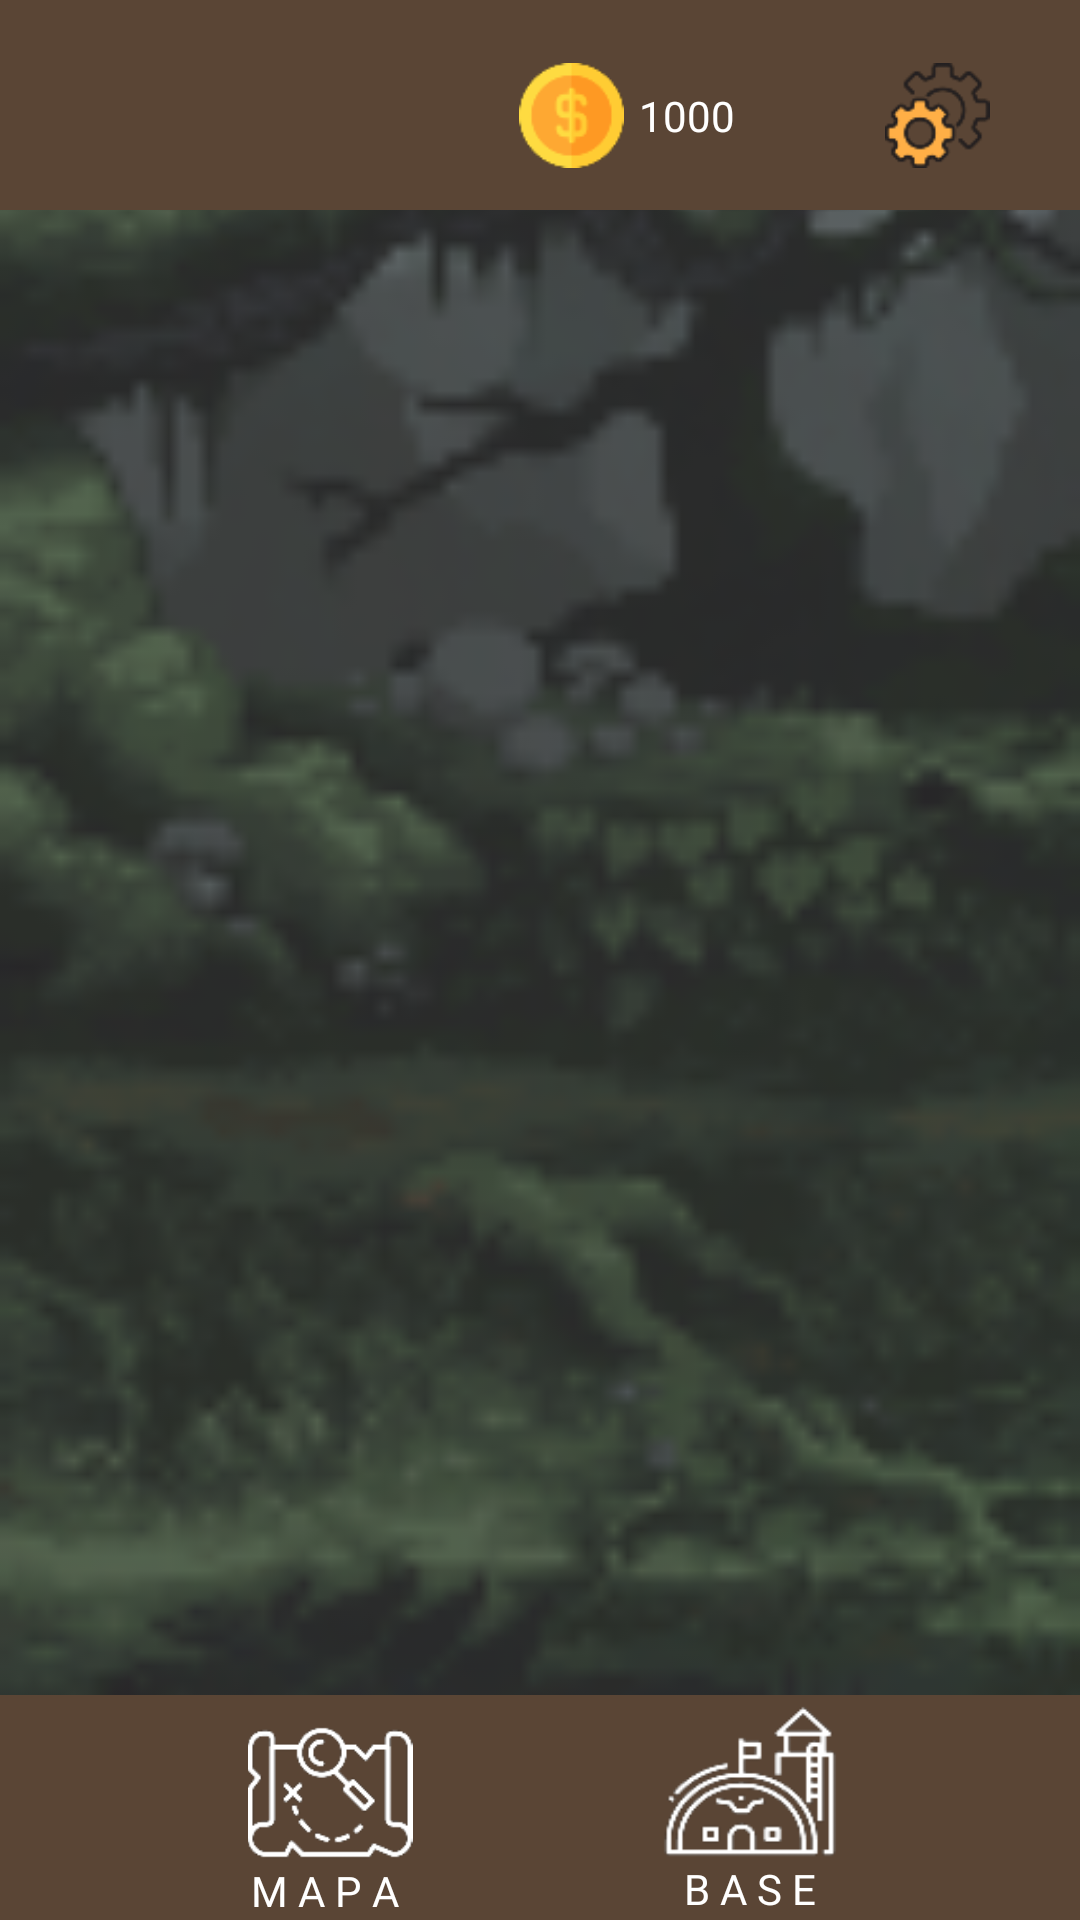

Named icons in this screenshot (1080×1920) and their centers, point (x, y):
config: point (937, 115)
moeda: point (571, 115)
